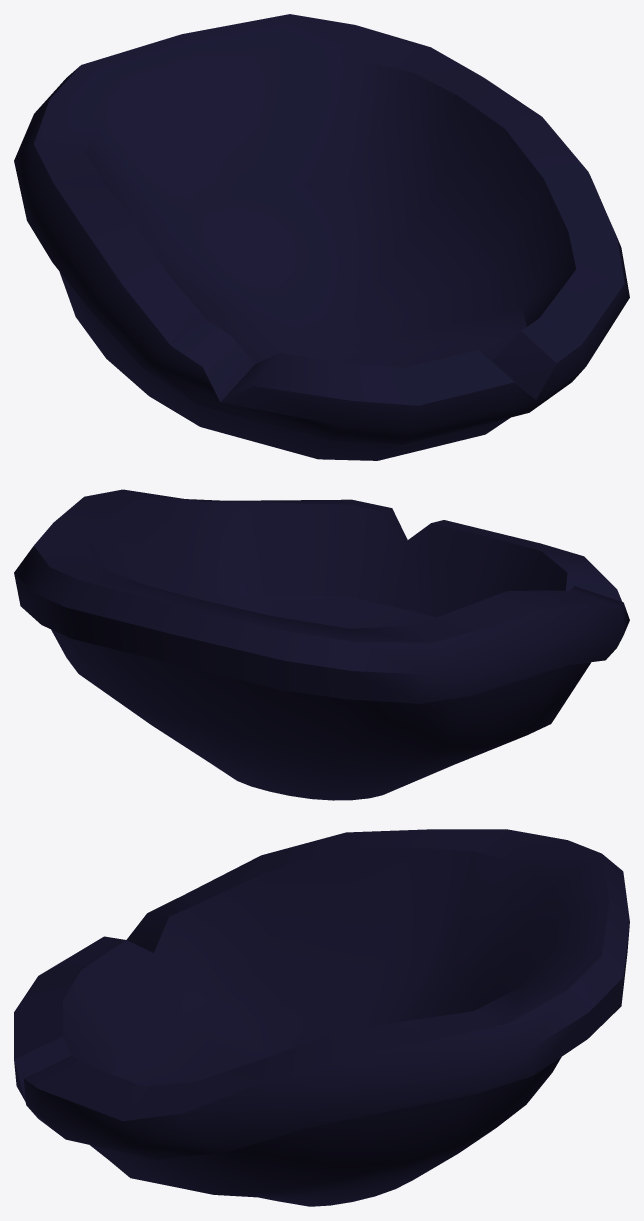
The model's file is skeleton_mage_skull_scarf.obj.
3 renders of one model, top to bottom at view 1: azimuth 30°, elevation 25°; view 2: azimuth 150°, elevation 25°; view 3: azimuth 270°, elevation 25°, orthographic.
Parts seen in each view (by area): view 1: character_skeleton_mage_cowl; view 2: character_skeleton_mage_cowl; view 3: character_skeleton_mage_cowl.
Boxes of the visible parts, left/top/right/bottom form: character_skeleton_mage_cowl: left=14, top=14, right=629, bottom=460; character_skeleton_mage_cowl: left=14, top=489, right=629, bottom=800; character_skeleton_mage_cowl: left=14, top=829, right=629, bottom=1206.
Size of the model in its own units: 0.9334 by 0.5151 by 1.01.
